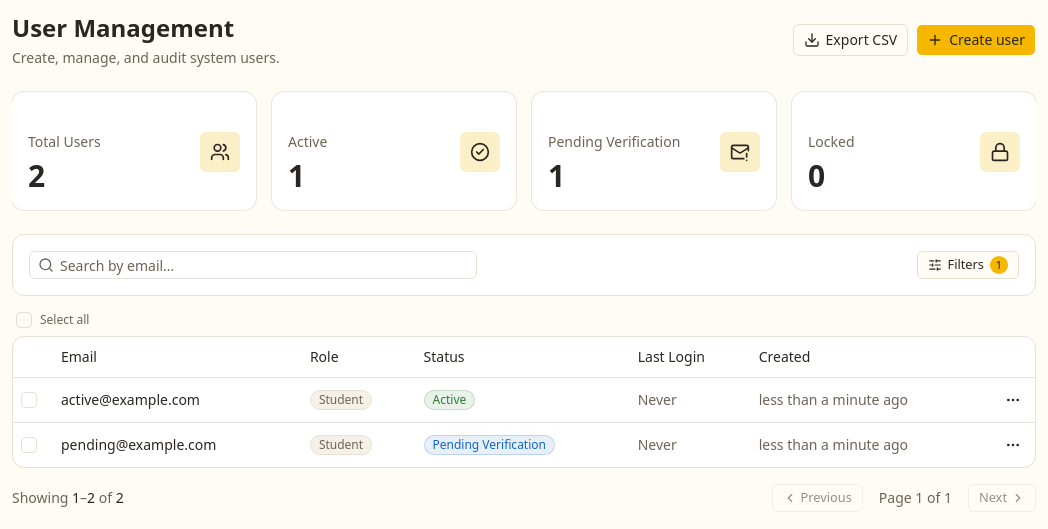
Test case: UsersPage › filters the table by search
The image size is (1048, 529).
Expected: the button "active@example.com" is shown, [61,390,200,410]
Type "pending" into the field with placeholder "Search by email…".
click(265, 265); type("pending")  # box [54,249,476,281]
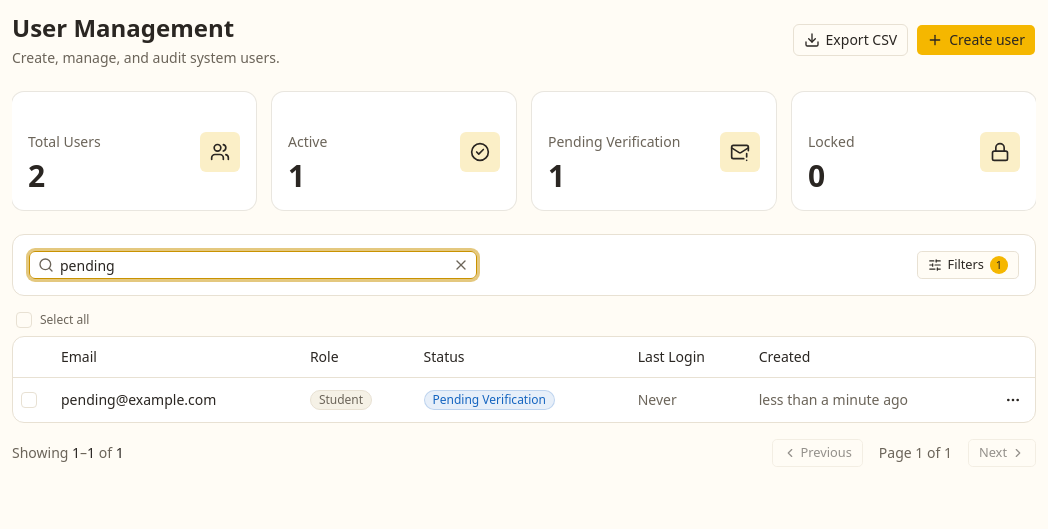
Expected: the button "pending@example.com" is shown, [61,390,216,410]
Expected: the button "active@example.com" is gone
